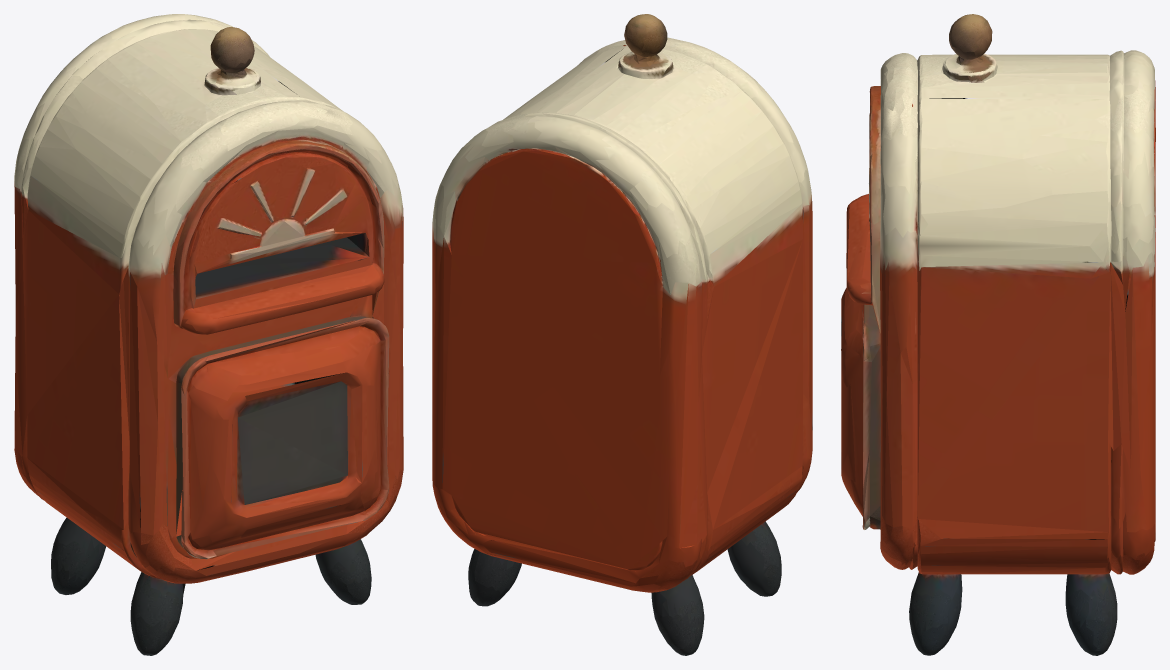
3 views of the same model, side by side, from view 1: azimuth 30°, elevation 25°; view 2: azimuth 150°, elevation 25°; view 3: azimuth 270°, elevation 25° (orthographic). The views are drawn at different scales.
Size of the model in its own units: 0.4933 by 1 by 0.4866.
Materials: 1 (1 with a texture image).
